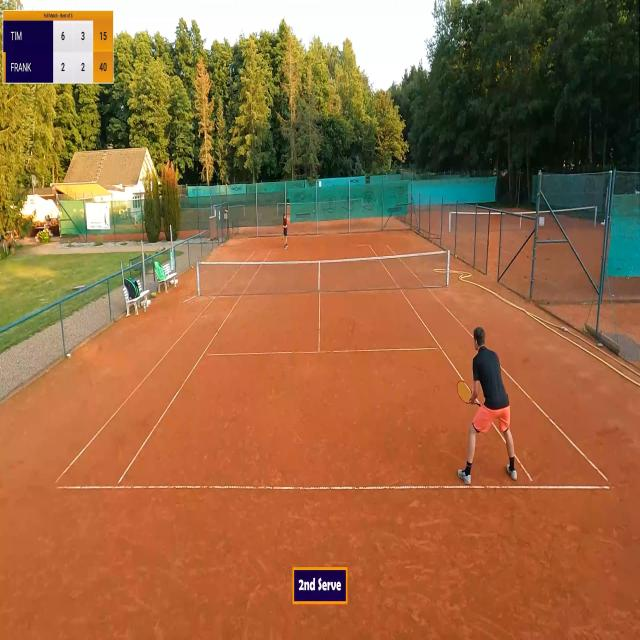tennis-player: (456, 317, 524, 494), (279, 208, 298, 251), (0, 0, 24, 11)
